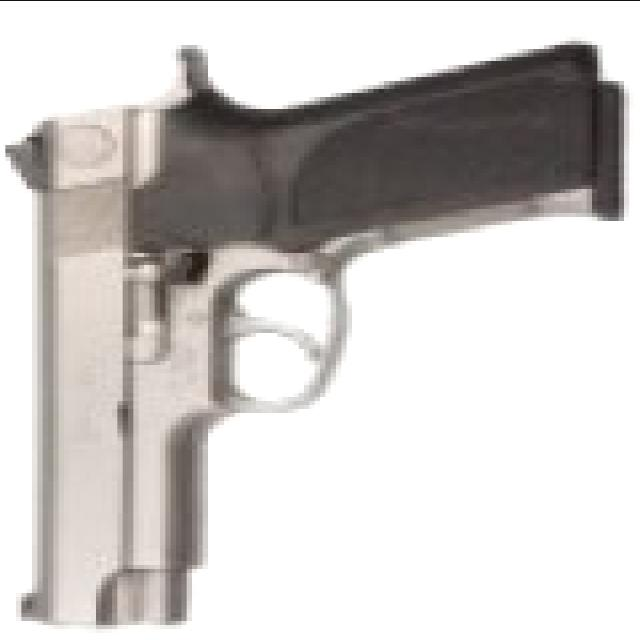handgun: (11, 40, 629, 628)
